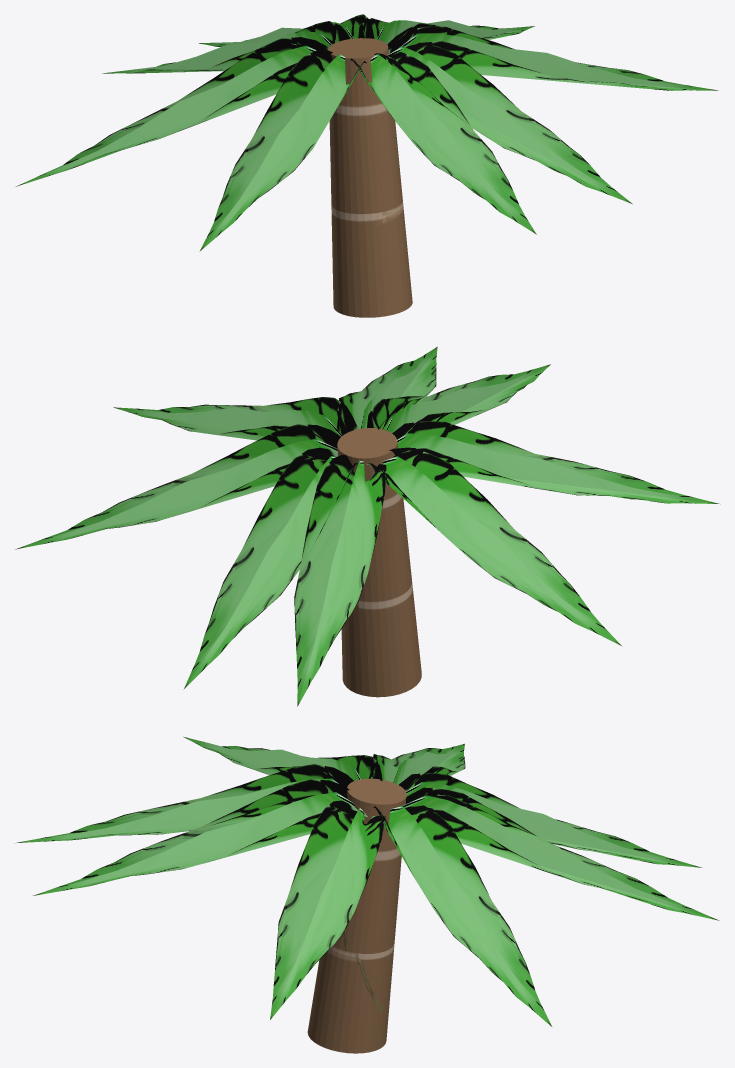
File: Palmera Top 1.obj
The picture shows the model from 3 angles, top to bottom: view 1: azimuth 30°, elevation 25°; view 2: azimuth 150°, elevation 25°; view 3: azimuth 270°, elevation 25°; orthographic projection.
Visible parts, largest first — view 1: Palmera_T1_Cilindro.004; view 2: Palmera_T1_Cilindro.004; view 3: Palmera_T1_Cilindro.004.
Part boxes in pixels (x1=…): Palmera_T1_Cilindro.004: x1=15, y1=14, x2=718, y2=317; Palmera_T1_Cilindro.004: x1=15, y1=346, x2=720, y2=706; Palmera_T1_Cilindro.004: x1=14, y1=736, x2=719, y2=1053.
Bounding box in the file's own units: 3.17 × 1.3 × 3.19.
Materials: 1 (1 with a texture image).
